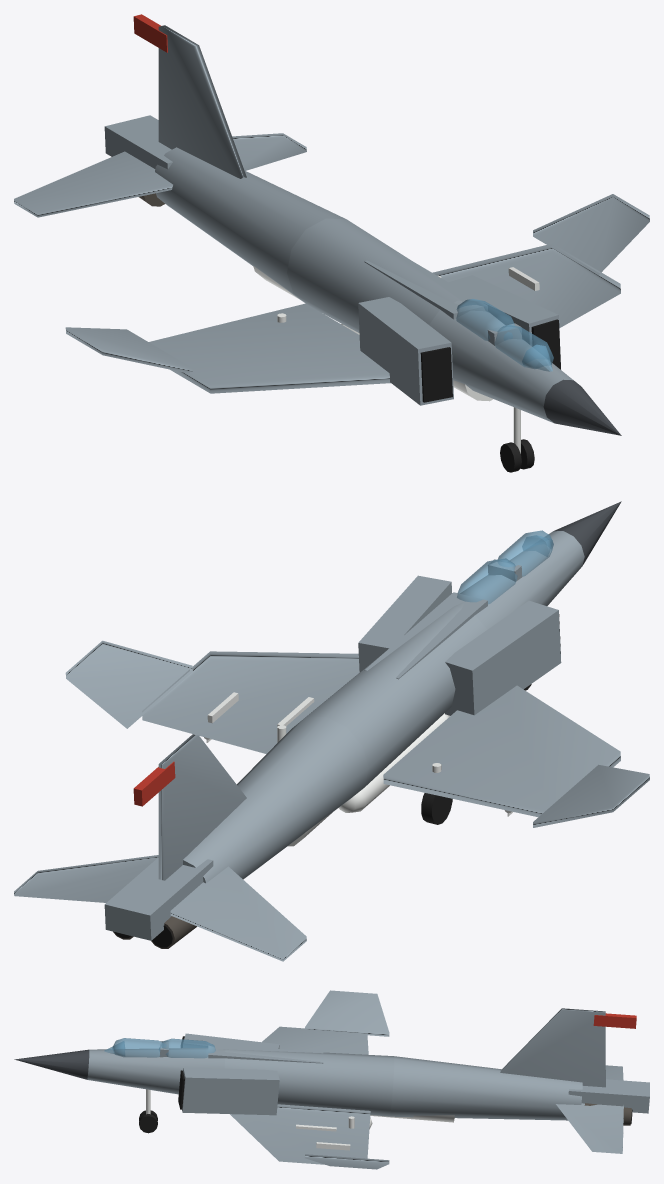
The model's file is f4-phantom.glb.
The picture shows the model from 3 angles, top to bottom: view 1: azimuth 30°, elevation 25°; view 2: azimuth 150°, elevation 25°; view 3: azimuth 270°, elevation 25°; orthographic projection. The views are drawn at different scales.
Parts seen in each view (by area): view 1: Mesh_InnerWingRight, Mesh_AftFuselage, Mesh_MidFuselage, Mesh_Fin, Mesh_FwdFuselage, Mesh_InnerWingLeft, Mesh_IntakeR, Mesh_TailplaneRight, Mesh_OuterWingLeft, Mesh_OuterWingRight, Mesh_IntakeL, Mesh_Radome (+8 smaller); view 2: Mesh_InnerWingRight, Mesh_AftFuselage, Mesh_InnerWingLeft, Mesh_MidFuselage, Mesh_IntakeR, Mesh_Fin, Mesh_TailplaneRight, Mesh_OuterWingLeft, Mesh_FwdFuselage, Mesh_TailFairing, Mesh_TailplaneLeft, Mesh_OuterWingRight (+8 smaller); view 3: Mesh_AftFuselage, Mesh_MidFuselage, Mesh_InnerWingLeft, Mesh_Fin, Mesh_IntakeL, Mesh_FwdFuselage, Mesh_OuterWingRight, Mesh_TailplaneLeft, Mesh_InnerWingRight, Mesh_TailFairing, Mesh_Radome, Mesh_Spine (+7 smaller).
Boxes of the visible parts, left/top/right/bottom form: Mesh_InnerWingRight: left=149, top=303, right=390, bottom=393; Mesh_AftFuselage: left=155, top=147, right=345, bottom=303; Mesh_MidFuselage: left=287, top=218, right=461, bottom=333; Mesh_Fin: left=158, top=25, right=246, bottom=178; Mesh_FwdFuselage: left=429, top=300, right=573, bottom=422; Mesh_InnerWingLeft: left=432, top=243, right=620, bottom=328; Mesh_IntakeR: left=358, top=297, right=453, bottom=405; Mesh_TailplaneRight: left=14, top=151, right=172, bottom=217; Mesh_OuterWingLeft: left=533, top=194, right=649, bottom=275; Mesh_OuterWingRight: left=65, top=327, right=192, bottom=373; Mesh_IntakeL: left=448, top=275, right=560, bottom=369; Mesh_Radome: left=543, top=379, right=621, bottom=435; Mesh_InnerWingRight: left=383, top=685, right=620, bottom=817; Mesh_AftFuselage: left=183, top=717, right=368, bottom=883; Mesh_InnerWingLeft: left=142, top=651, right=359, bottom=753; Mesh_MidFuselage: left=294, top=606, right=486, bottom=787; Mesh_IntakeR: left=445, top=600, right=561, bottom=715; Mesh_Fin: left=158, top=734, right=246, bottom=880; Mesh_TailplaneRight: left=170, top=866, right=306, bottom=961; Mesh_OuterWingLeft: left=65, top=640, right=192, bottom=728; Mesh_FwdFuselage: left=454, top=531, right=584, bottom=629; Mesh_TailFairing: left=104, top=857, right=213, bottom=940; Mesh_TailplaneLeft: left=14, top=855, right=158, bottom=902; Mesh_OuterWingRight: left=533, top=764, right=649, bottom=827; Mesh_AftFuselage: left=390, top=1056, right=582, bottom=1120; Mesh_MidFuselage: left=224, top=1049, right=394, bottom=1116; Mesh_InnerWingLeft: left=230, top=1104, right=370, bottom=1164; Mesh_Fin: left=500, top=1008, right=605, bottom=1087; Mesh_IntakeL: left=182, top=1067, right=279, bottom=1115; Mesh_FwdFuselage: left=87, top=1048, right=225, bottom=1094; Mesh_OuterWingRight: left=305, top=990, right=389, bottom=1036; Mesh_TailplaneLeft: left=556, top=1103, right=623, bottom=1153; Mesh_InnerWingRight: left=262, top=1026, right=368, bottom=1054; Mesh_TailFairing: left=568, top=1079, right=649, bottom=1113; Mesh_Radome: left=14, top=1049, right=89, bottom=1079; Mesh_Spine: left=208, top=1044, right=323, bottom=1063.
Bounding box in the file's own units: 12 × 4.02 × 18.78.
